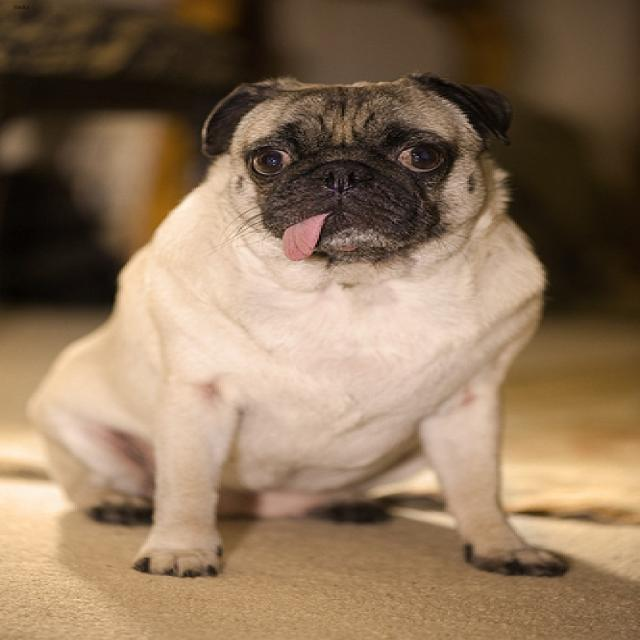dog-pug: (23, 65, 578, 584)
